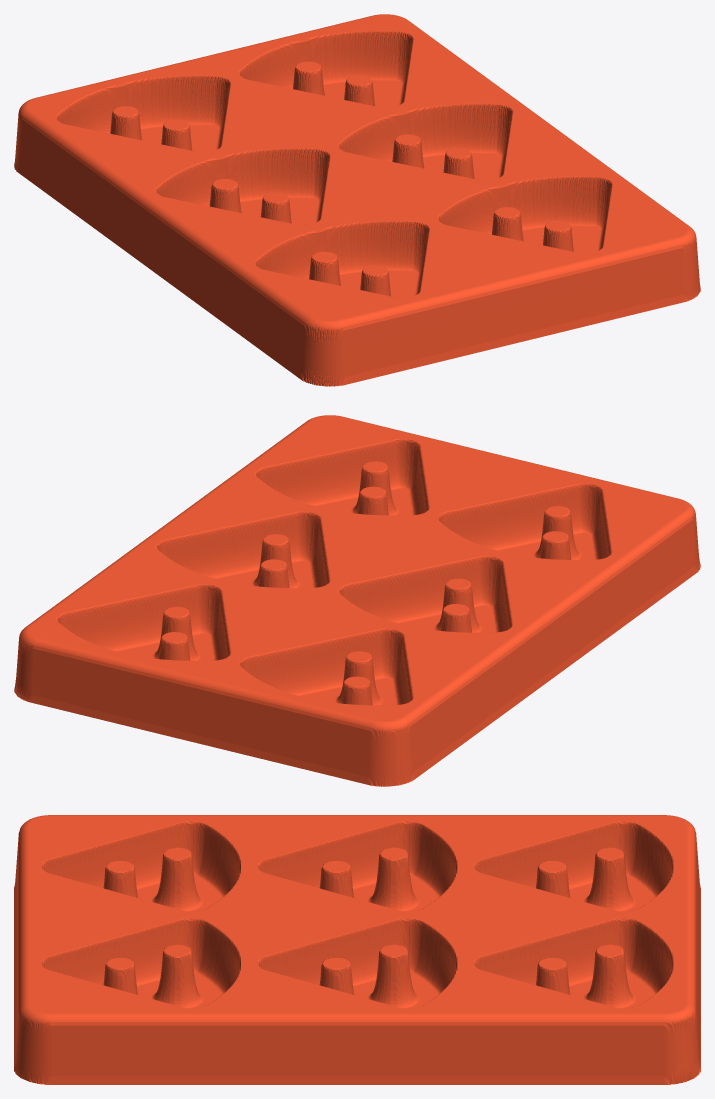
Rendered from mold.glb.
3 views of the same model, one above another, from view 1: azimuth 30°, elevation 25°; view 2: azimuth 150°, elevation 25°; view 3: azimuth 270°, elevation 25° (orthographic). The views are drawn at different scales.
Parts seen in each view (by area): view 1: geometry_0; view 2: geometry_0; view 3: geometry_0.
Part boxes in pixels (left/top/right/bottom): geometry_0: left=14, top=14, right=700, bottom=386; geometry_0: left=14, top=415, right=700, bottom=786; geometry_0: left=14, top=815, right=700, bottom=1084.
Size of the model in its own units: 0.1211 by 0.0175 by 0.1674.
